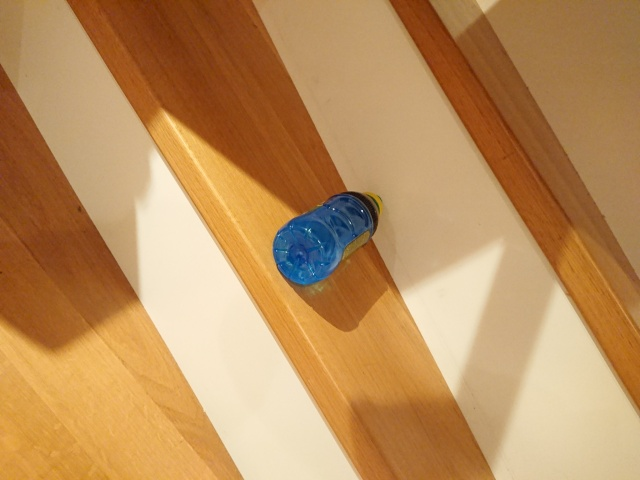Vindi Iso Sport Forest Strawberries 500mL: (270, 189, 384, 287)
